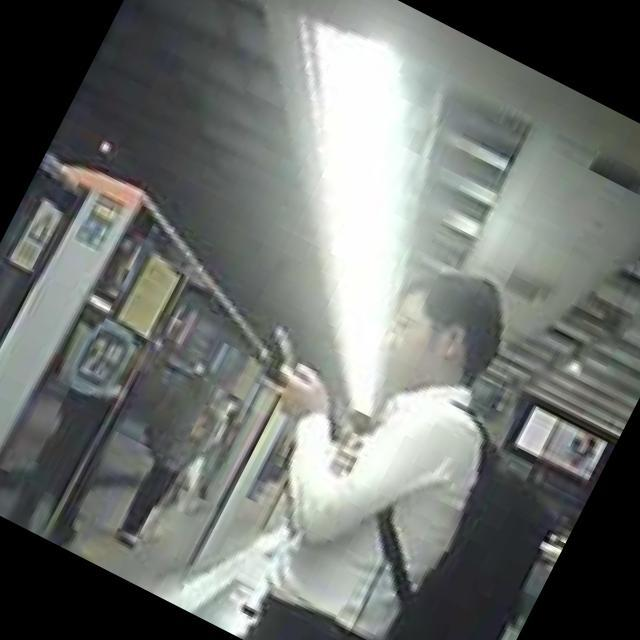person: (165, 217, 581, 640)
